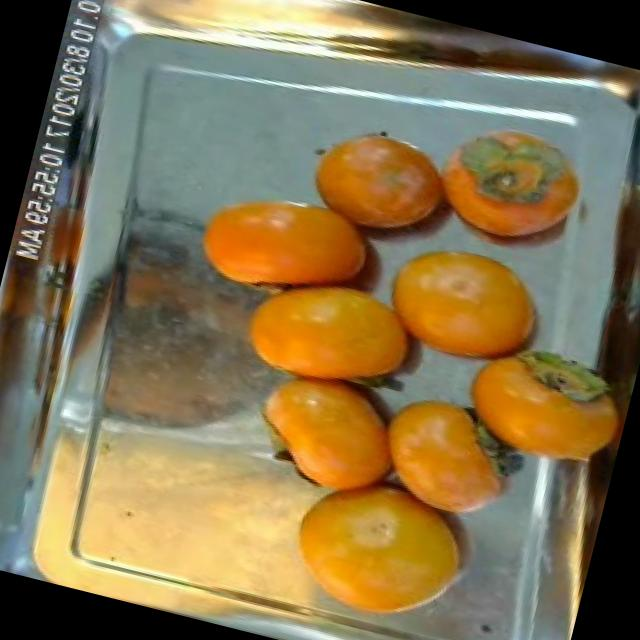Fruit: (59, 226, 330, 477), (268, 448, 496, 640), (360, 220, 570, 389), (416, 104, 608, 274), (353, 373, 542, 544), (440, 326, 638, 477), (288, 107, 468, 259), (177, 168, 359, 316)
